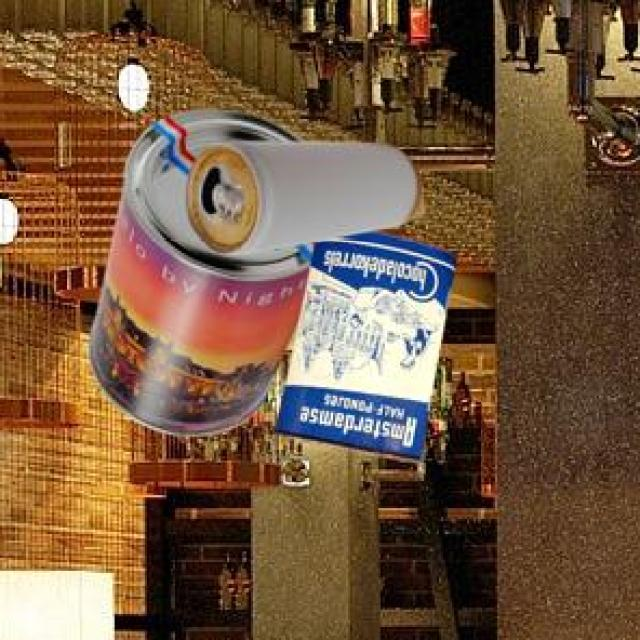logam: (85, 107, 312, 434), (271, 228, 453, 459), (183, 137, 421, 252)
